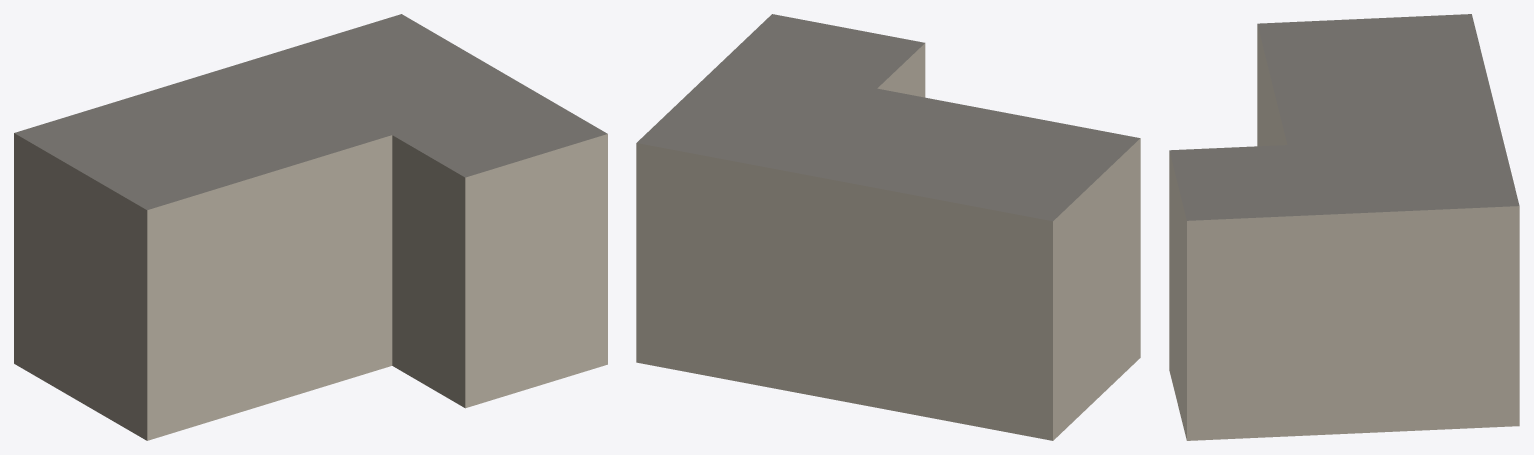
3 views of the same model, side by side, from view 1: azimuth 30°, elevation 25°; view 2: azimuth 150°, elevation 25°; view 3: azimuth 270°, elevation 25° (orthographic). The views are drawn at different scales.
Visible parts, largest first — view 1: HP-w369317594; view 2: HP-w369317594; view 3: HP-w369317594.
Boxes of the visible parts, x1=… form: HP-w369317594: x1=14, y1=14, x2=607, y2=440; HP-w369317594: x1=636, y1=14, x2=1140, y2=440; HP-w369317594: x1=1169, y1=14, x2=1519, y2=440.
Size of the model in its own units: 24.19 by 12 by 17.31.
